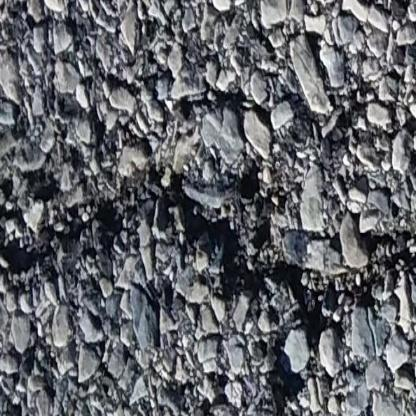Cracks: (0, 156, 416, 416), (98, 66, 371, 154), (395, 115, 416, 206)
